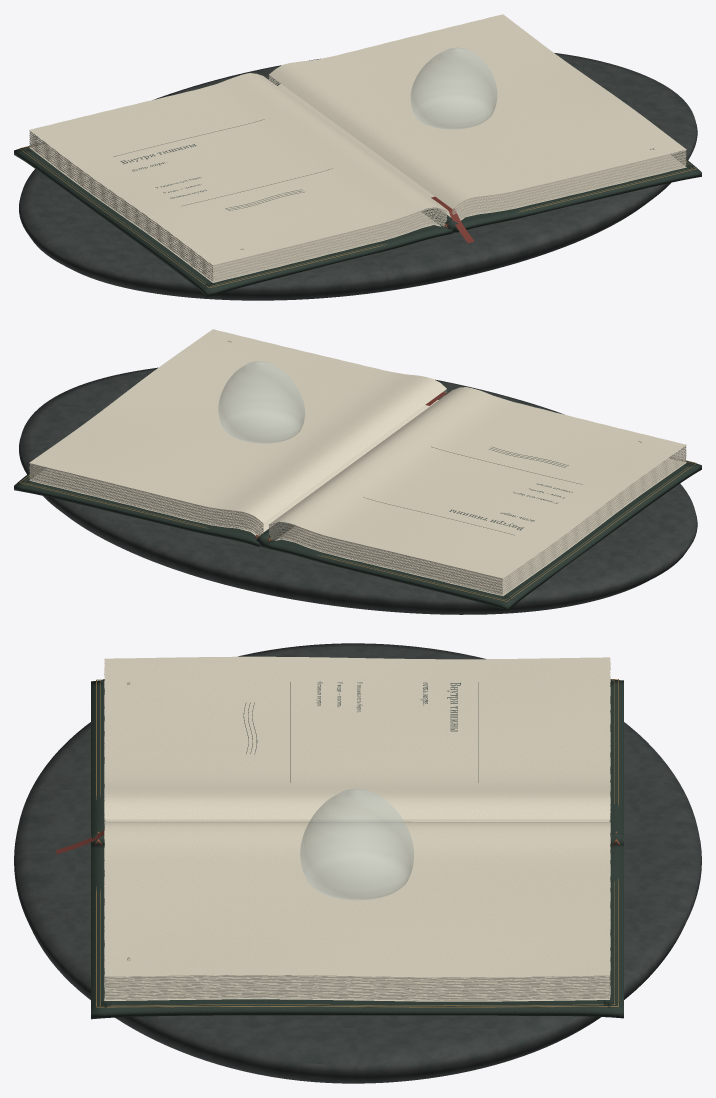
Rendered from macro.glb.
3 views of the same model, one above another, from view 1: azimuth 30°, elevation 25°; view 2: azimuth 150°, elevation 25°; view 3: azimuth 270°, elevation 25° (orthographic). The views are drawn at different scales.
Parts seen in each view (by area): view 1: Book_RightPage__Within_ivory_paper, Book_LeftPage__Within_ivory_paper, Pedestal__Within_honed_basalt, Book_Binding__Within_embossed_leather, Book_LeftPage__Within_deckled_edges, DropletSurface, Book_RightPage__Within_deckled_edges, Book_Binding__Within_antique_brass, Book_Letterpress__Within_letterpress_ink; view 2: Book_RightPage__Within_ivory_paper, Book_LeftPage__Within_ivory_paper, Pedestal__Within_honed_basalt, Book_Binding__Within_embossed_leather, Book_LeftPage__Within_deckled_edges, DropletSurface, Book_RightPage__Within_deckled_edges, Book_Binding__Within_antique_brass, Book_Letterpress__Within_letterpress_ink; view 3: Book_LeftPage__Within_ivory_paper, Book_RightPage__Within_ivory_paper, Pedestal__Within_honed_basalt, Book_Binding__Within_embossed_leather, Book_RightPage__Within_deckled_edges, DropletSurface, Book_Binding__Within_antique_brass, Book_LeftPage__Within_deckled_edges, Book_Letterpress__Within_letterpress_ink.
Boxes of the visible parts, x1,y1,x2,y2 form: Book_RightPage__Within_ivory_paper: (269,14,686,208); Book_LeftPage__Within_ivory_paper: (29,73,445,265); Pedestal__Within_honed_basalt: (19,53,697,300); Book_Binding__Within_embossed_leather: (14,82,701,297); Book_LeftPage__Within_deckled_edges: (29,130,446,282); DropletSurface: (411,47,496,129); Book_RightPage__Within_deckled_edges: (269,75,686,220); Book_Binding__Within_antique_brass: (19,146,696,288); Book_Letterpress__Within_letterpress_ink: (113,119,654,249); Book_RightPage__Within_ivory_paper: (29,329,446,523); Book_LeftPage__Within_ivory_paper: (269,387,686,578); Pedestal__Within_honed_basalt: (19,367,697,614); Book_Binding__Within_embossed_leather: (14,398,701,610); Book_LeftPage__Within_deckled_edges: (269,445,686,595); DropletSurface: (218,361,304,443); Book_RightPage__Within_deckled_edges: (29,389,446,535); Book_Binding__Within_antique_brass: (19,457,696,601); Book_Letterpress__Within_letterpress_ink: (228,341,641,535); Book_LeftPage__Within_ivory_paper: (104,656,610,819); Book_RightPage__Within_ivory_paper: (104,821,610,977); Pedestal__Within_honed_basalt: (14,643,701,1083); Book_Binding__Within_embossed_leather: (91,679,623,1019); Book_RightPage__Within_deckled_edges: (104,833,610,1001); DropletSurface: (300,789,413,899); Book_Binding__Within_antique_brass: (95,679,619,1007); Book_LeftPage__Within_deckled_edges: (104,663,610,832); Book_Letterpress__Within_letterpress_ink: (127,681,478,960).
Bounding box in the file's own units: 23.69 × 4.32 × 16.26.
Materials: 8 (4 with a texture image).
